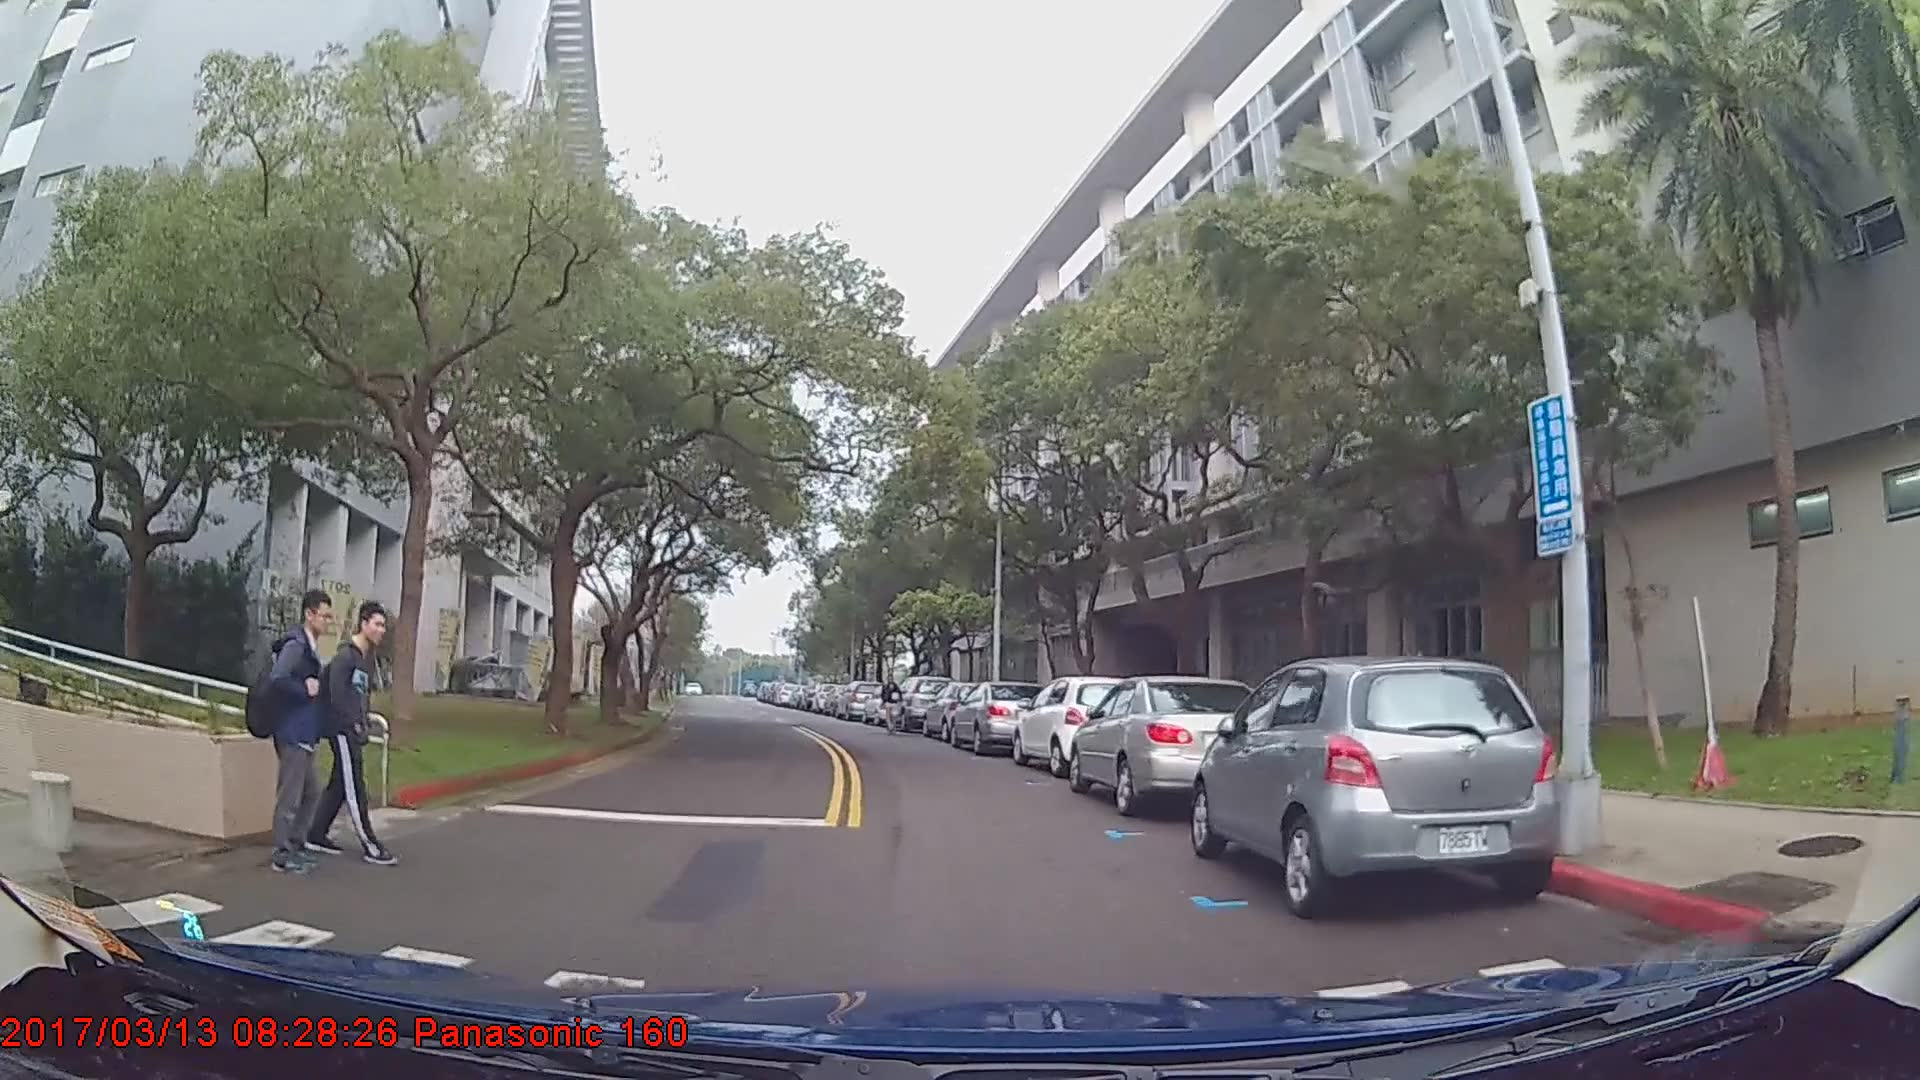pedestrian: (234, 594, 341, 882), (300, 601, 393, 874), (879, 674, 904, 738)
vehicle: (1191, 654, 1563, 921), (1068, 676, 1276, 814), (1010, 672, 1143, 776), (947, 679, 1046, 755), (921, 679, 1001, 742), (886, 674, 948, 729), (834, 680, 882, 718)
